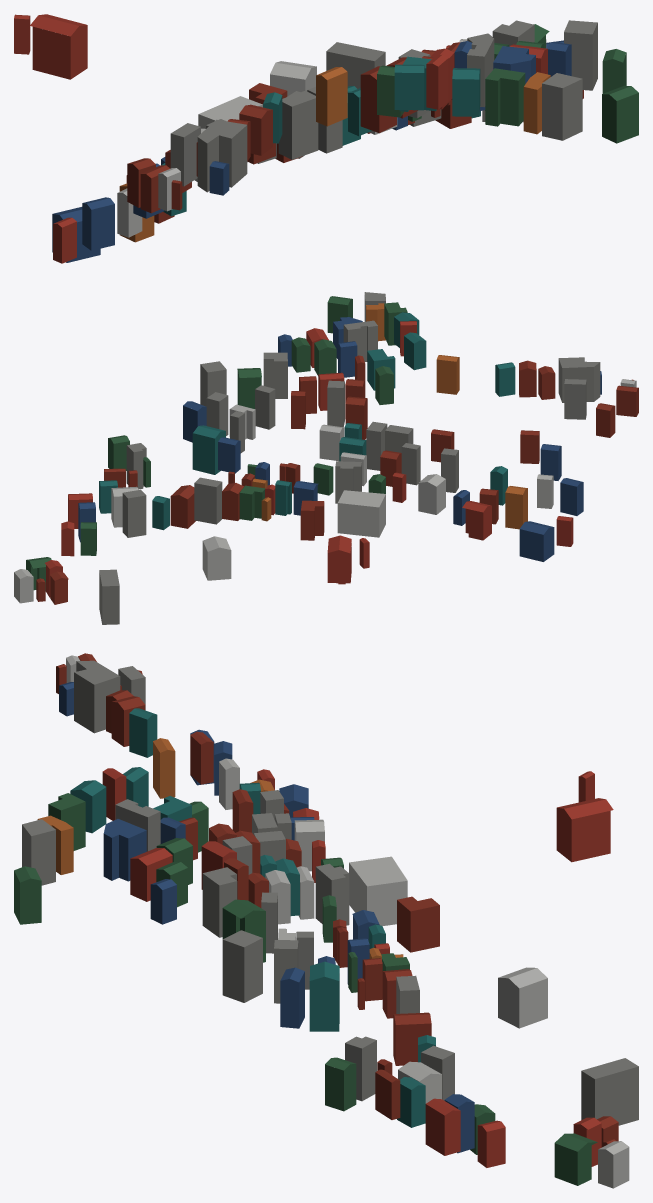
Rendered from near-17-109435-59474.4ec40eb2.glb.
3 views of the same model, one above another, from view 1: azimuth 30°, elevation 25°; view 2: azimuth 150°, elevation 25°; view 3: azimuth 270°, elevation 25° (orthographic). The views are drawn at different scales.
Bounding box in the file's own units: 305 × 129 × 270.
